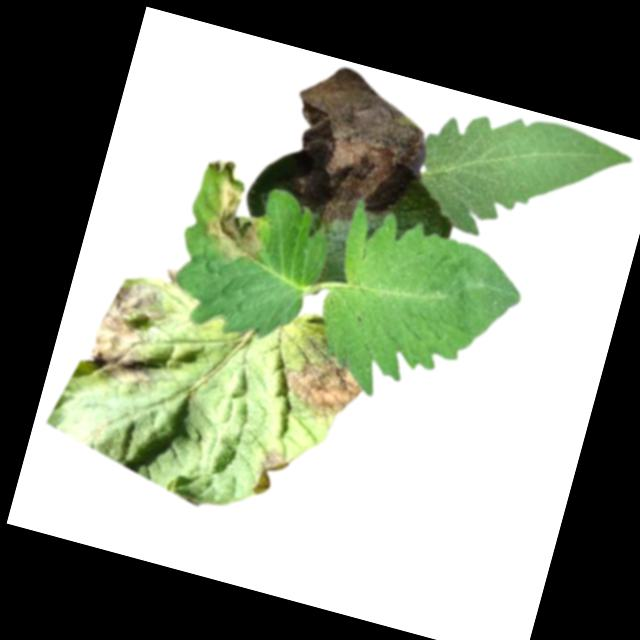Late_blight: (269, 57, 441, 242), (83, 268, 186, 395), (184, 152, 285, 271), (278, 341, 373, 429), (252, 446, 290, 498), (164, 266, 180, 284)
